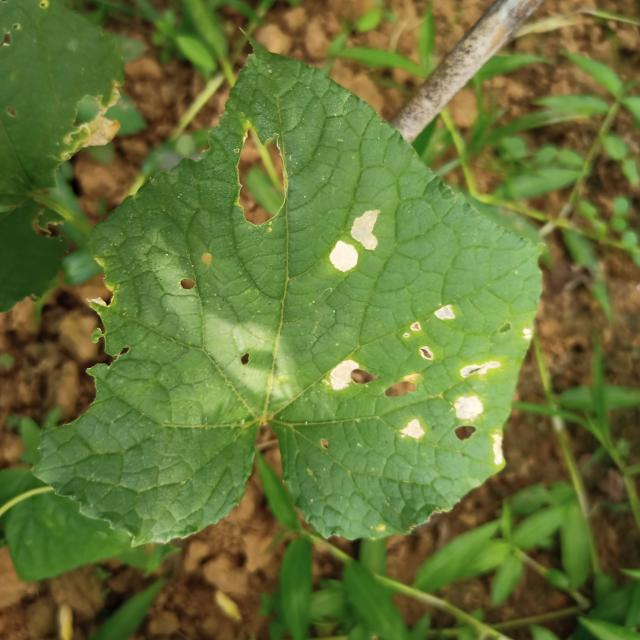disease_cucumber: (324, 300, 532, 470), (320, 204, 387, 276)
